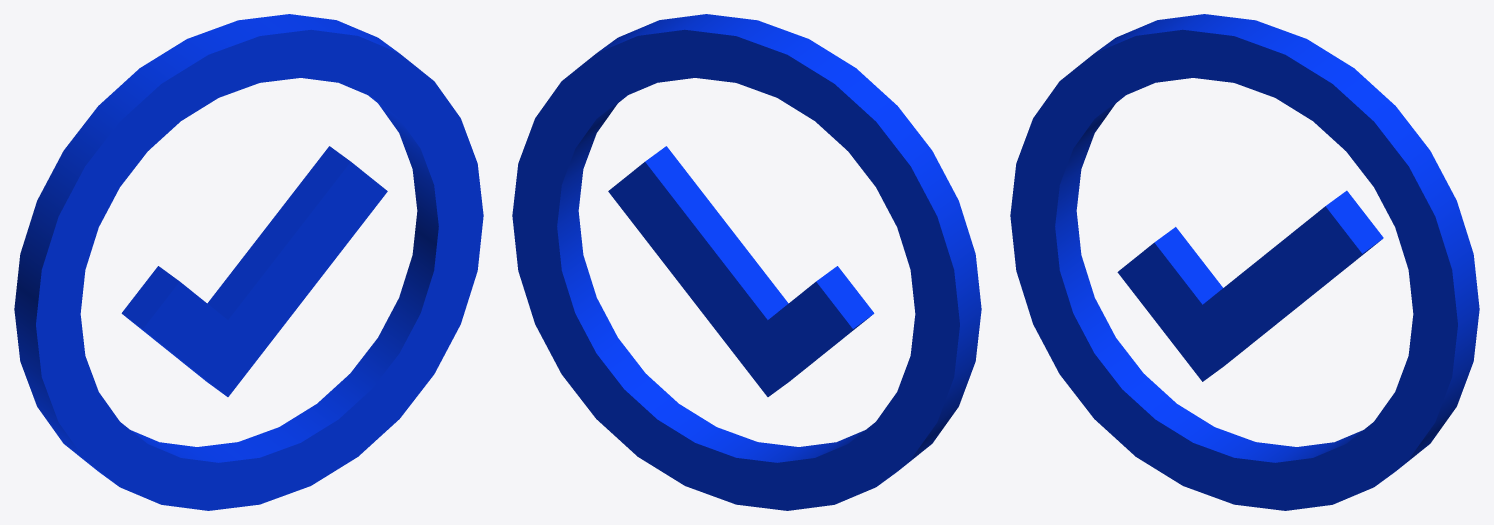
Rendered from #10_Obj_CheckMark.FBX.
The picture shows the model from 3 angles, left to right: view 1: azimuth 30°, elevation 25°; view 2: azimuth 150°, elevation 25°; view 3: azimuth 330°, elevation 25°; orthographic projection.
Parts seen in each view (by area): view 1: check; view 2: check; view 3: check.
Part boxes in pixels (x1,y1,x2,y2): check: (14,14,483,510); check: (512,14,981,510); check: (1010,14,1479,510).
Size of the model in its own units: 600 by 50 by 600.
